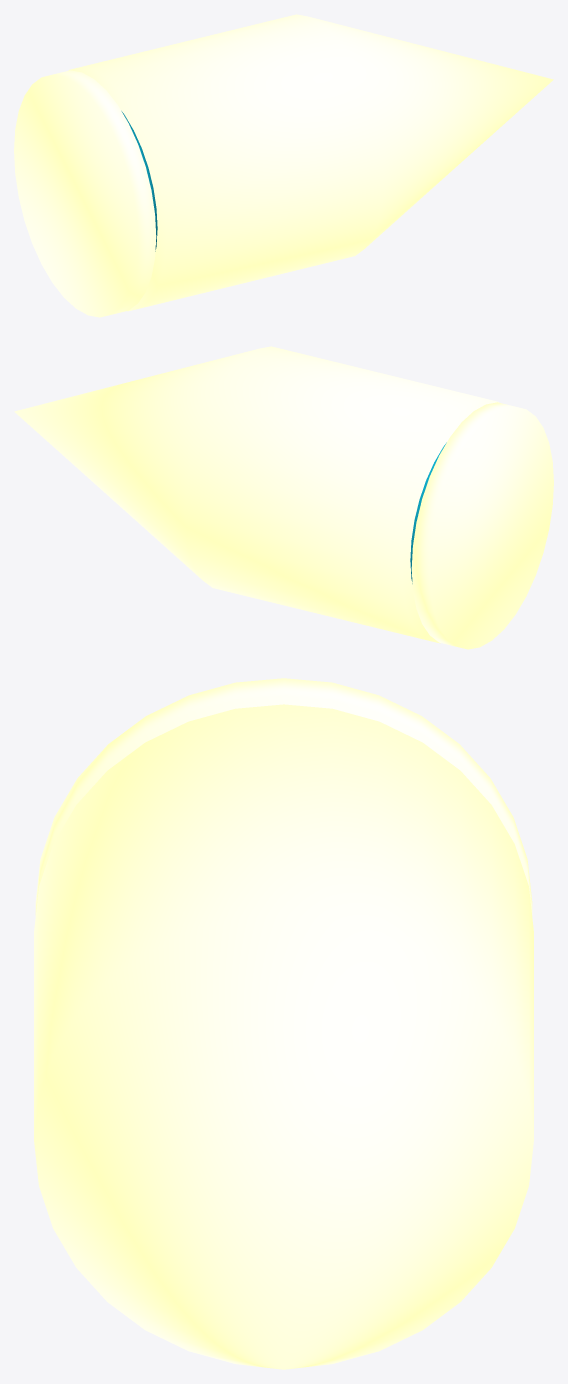
The model's file is Bullet.fbx.
3 views of the same model, one above another, from view 1: azimuth 30°, elevation 25°; view 2: azimuth 150°, elevation 25°; view 3: azimuth 270°, elevation 25° (orthographic). The views are drawn at different scales.
Parts seen in each view (by area): view 1: Bullet; view 2: Bullet; view 3: Bullet.
Boxes of the visible parts, x1,y1,x2,y2 form: Bullet: [14, 14, 553, 317]; Bullet: [14, 346, 553, 649]; Bullet: [34, 678, 533, 1369].
Bounding box in the file's own units: 168 × 75.86 × 75.86.
